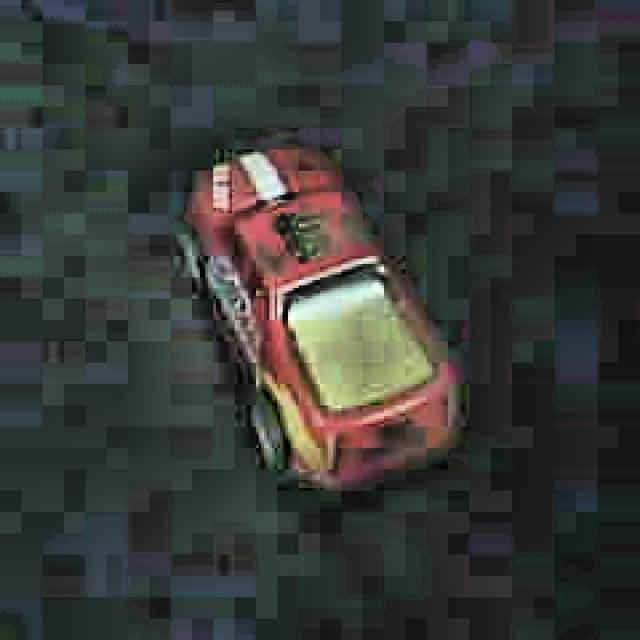car: (166, 129, 474, 502)
